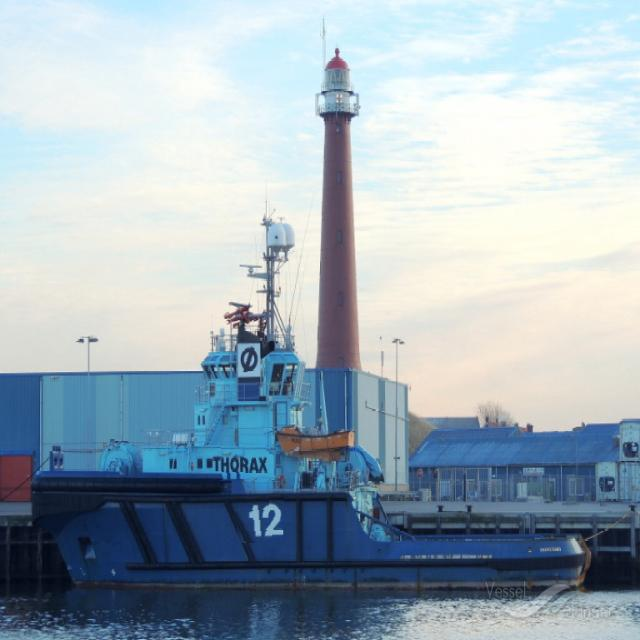OCR: (209, 438, 276, 480), (234, 494, 284, 543)
